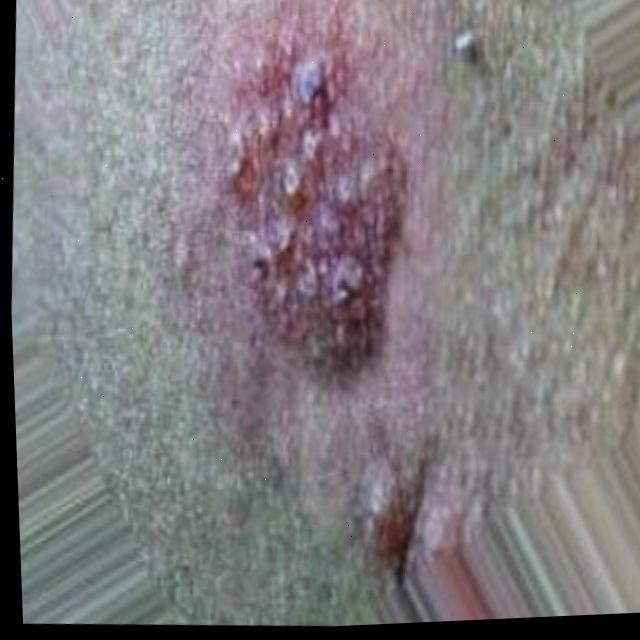Shingles: (206, 27, 424, 369)
